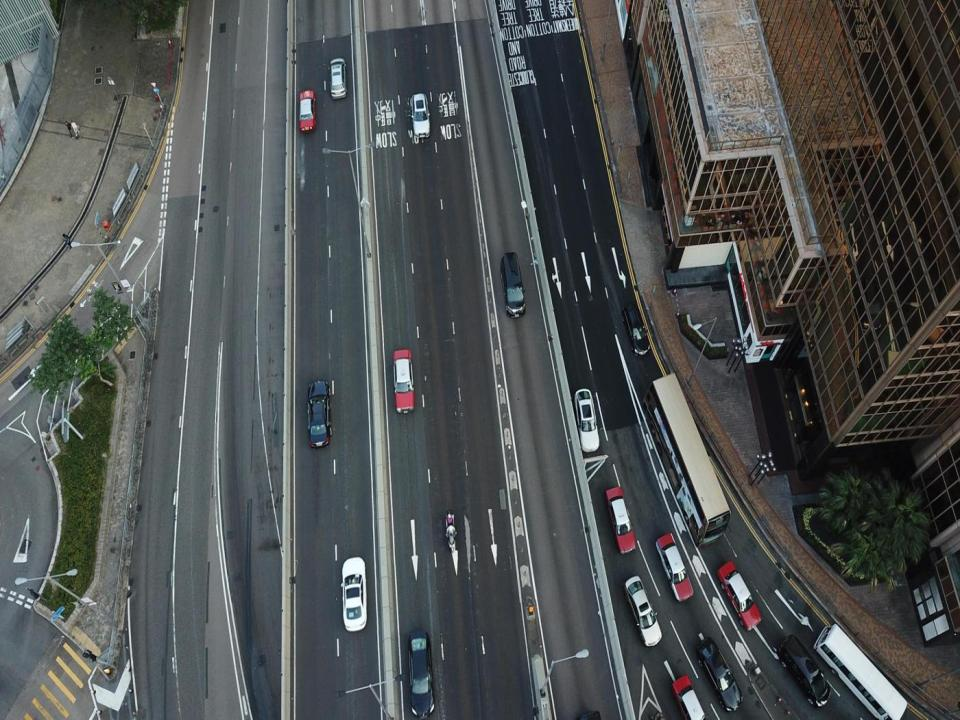bus: (649, 373, 726, 548), (812, 620, 908, 718)
car: (695, 630, 748, 710), (776, 631, 828, 703), (713, 560, 763, 627), (620, 574, 663, 648), (655, 530, 696, 602), (606, 484, 637, 554), (340, 556, 368, 633), (573, 385, 599, 455), (307, 378, 331, 447), (667, 671, 701, 719), (392, 351, 416, 412), (624, 304, 652, 355), (409, 92, 430, 144), (297, 88, 316, 132), (329, 57, 346, 102)
van: (409, 627, 436, 717), (499, 251, 525, 318)
